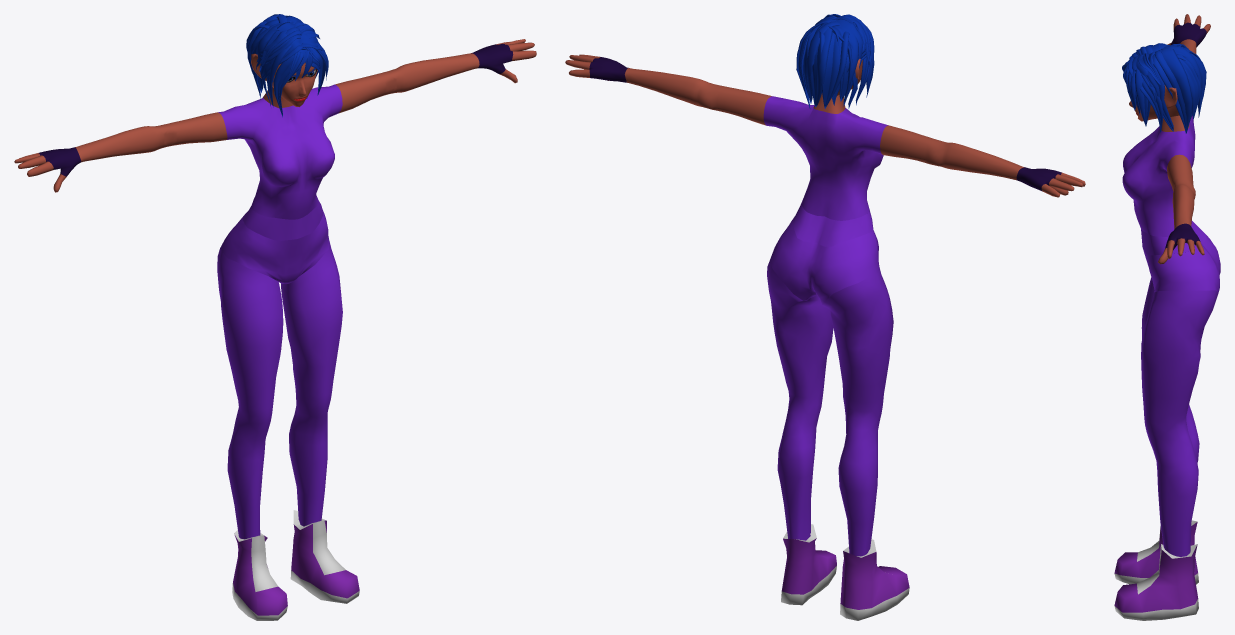
The model's file is CORPO5.obj.
3 renders of one model, left to right at view 1: azimuth 30°, elevation 25°; view 2: azimuth 150°, elevation 25°; view 3: azimuth 270°, elevation 25°, orthographic. The views are drawn at different scales.
Visible parts, largest first — view 1: CORPO5_corpo.015_Cube.006_Cube.007, CORPO5.001_corpo.015_Cube.006_Cube.008; view 2: CORPO5_corpo.015_Cube.006_Cube.007, CORPO5.001_corpo.015_Cube.006_Cube.008; view 3: CORPO5_corpo.015_Cube.006_Cube.007, CORPO5.001_corpo.015_Cube.006_Cube.008.
Part boxes in pixels (x1,y1,x2,y2): CORPO5_corpo.015_Cube.006_Cube.007: [14, 39, 536, 620]; CORPO5.001_corpo.015_Cube.006_Cube.008: [246, 14, 328, 117]; CORPO5_corpo.015_Cube.006_Cube.007: [565, 54, 1085, 620]; CORPO5.001_corpo.015_Cube.006_Cube.008: [796, 14, 874, 108]; CORPO5_corpo.015_Cube.006_Cube.007: [1114, 14, 1220, 620]; CORPO5.001_corpo.015_Cube.006_Cube.008: [1122, 43, 1206, 133].
Bounding box in the file's own units: 1.9 × 2.04 × 0.3555.
